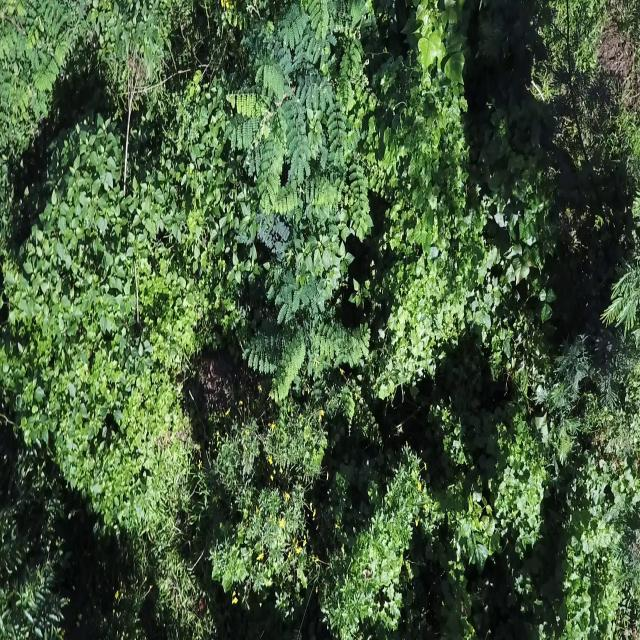Mysore-Thorn-Weed: (225, 4, 363, 417), (0, 0, 71, 129)
